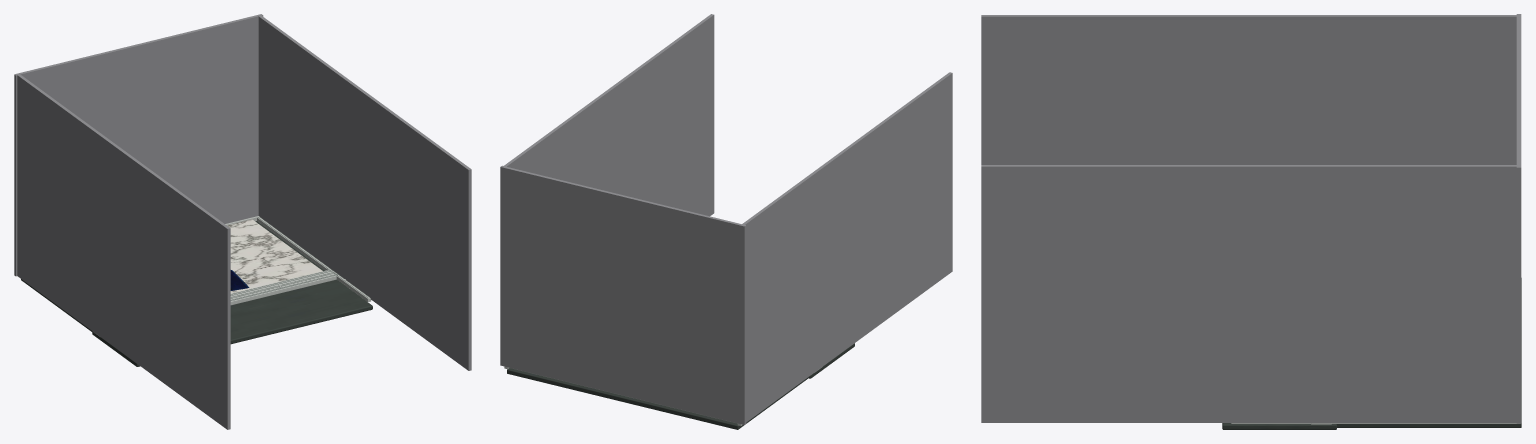
File: viga.glb
3 views of the same model, side by side, from view 1: azimuth 30°, elevation 25°; view 2: azimuth 150°, elevation 25°; view 3: azimuth 270°, elevation 25° (orthographic). The views are drawn at different scales.
Parts seen in each view (by area): view 1: Left wall, Right wall, Rear wall, Lower metal panel, Straight ivory marble slab, Front aluminum crossbar, Continuous edge rail.001; view 2: Rear wall, Left wall, Right wall, Under slab support; view 3: Right wall, Left wall, Rear wall, Under slab support, Lower metal panel.
Boxes of the visible parts, x1,y1,x2,y2 form: Left wall: (16,73,230,429); Right wall: (258,15,471,370); Rear wall: (14,14,263,276); Lower metal panel: (92,279,372,366); Straight ivory marble slab: (227,219,322,293); Front aluminum crossbar: (92,269,338,336); Continuous edge rail.001: (257,217,371,301); Rear wall: (500,165,746,424); Left wall: (741,72,952,422); Right wall: (504,14,714,216); Under slab support: (507,368,809,429); Right wall: (981,165,1516,422); Left wall: (981,15,1519,164); Rear wall: (1516,14,1521,423); Under slab support: (1336,278,1521,427); Lower metal panel: (1222,423,1336,429).
Size of the model in its own units: 2.06 by 1.66 by 3.06.
17 materials, 7 textured.
